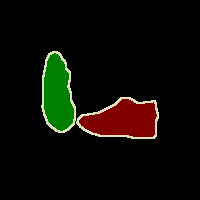shoe: (77, 98, 158, 138), (42, 51, 75, 132)
